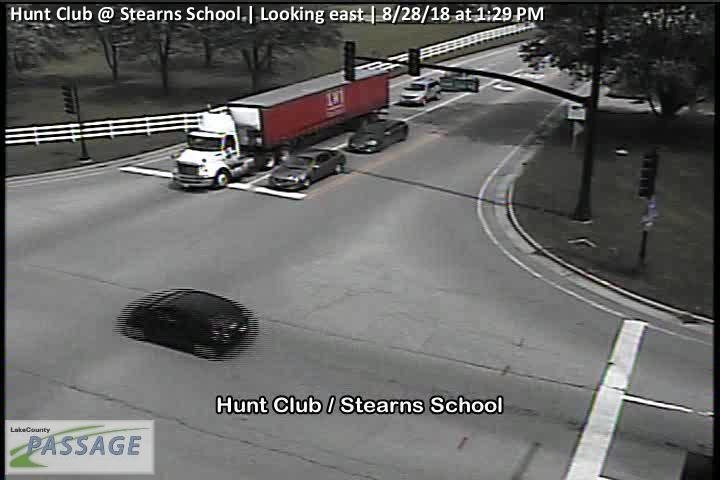SUV: (400, 78, 441, 104)
Sedan: (120, 289, 257, 361), (270, 148, 346, 192), (348, 119, 408, 155)
Truck: (173, 66, 391, 190)
